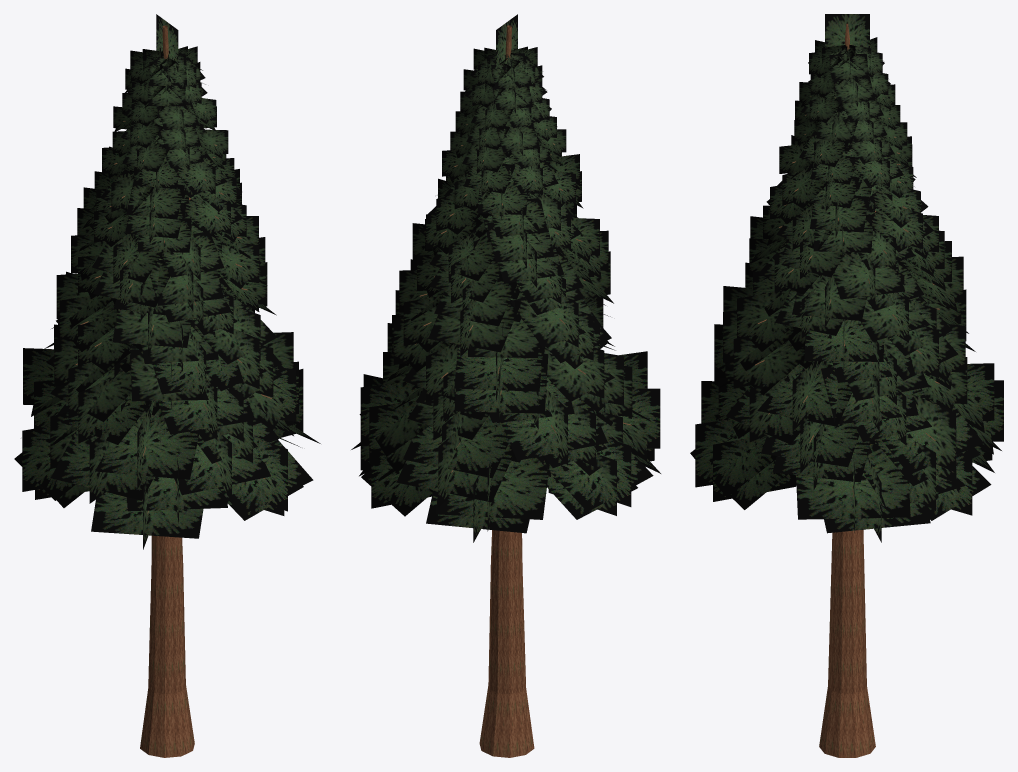
The model's file is Pine_Giant_1.gltf.
The picture shows the model from 3 angles, left to right: view 1: azimuth 30°, elevation 25°; view 2: azimuth 150°, elevation 25°; view 3: azimuth 270°, elevation 25°; orthographic projection.
Visible parts, largest first — view 1: Pine_Giant_1; view 2: Pine_Giant_1; view 3: Pine_Giant_1.
Boxes of the visible parts, box(x1,y1,x2,y2) form: Pine_Giant_1: box(14, 14, 320, 757); Pine_Giant_1: box(351, 14, 660, 757); Pine_Giant_1: box(690, 14, 1003, 757).
Size of the model in its own units: 15 by 37.82 by 14.69.
Materials: 2 (2 with a texture image).
